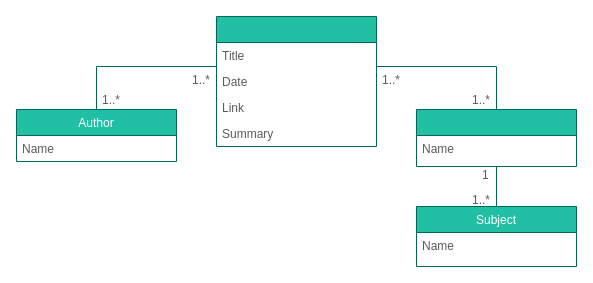
Some shapes in this 593 by 283 pixel diagram are drawn without their labels. Each missing label, with the box of its shape:
Article: (216, 16, 376, 146)
Field: (416, 108, 576, 166)
